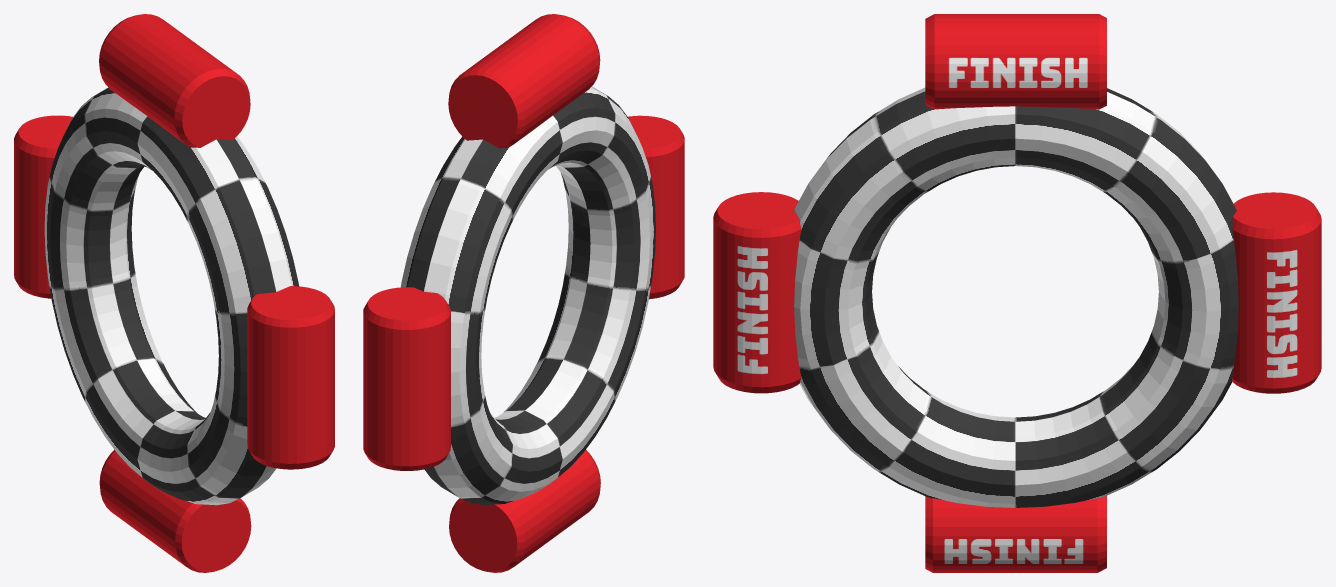
Rendered from finish 2.fbx.
The picture shows the model from 3 angles, left to right: view 1: azimuth 30°, elevation 25°; view 2: azimuth 150°, elevation 25°; view 3: azimuth 270°, elevation 25°; orthographic projection. The views are drawn at different scales.
Visible parts, largest first — view 1: Torus, Cylinder.004, Cylinder.002, Cylinder.001, Cylinder.003; view 2: Torus, Cylinder.003, Cylinder.002, Cylinder.001, Cylinder.004; view 3: Torus, Cylinder.002, Cylinder.003, Cylinder.004, Cylinder.001.
Boxes of the visible parts, x1,y1,x2,y2 form: Torus: (44, 87, 298, 505); Cylinder.004: (247, 286, 334, 469); Cylinder.002: (99, 14, 250, 147); Cylinder.001: (99, 449, 251, 572); Cylinder.003: (14, 115, 72, 298); Torus: (400, 86, 655, 505); Cylinder.003: (363, 287, 450, 470); Cylinder.002: (448, 14, 600, 148); Cylinder.001: (449, 450, 600, 572); Cylinder.004: (628, 115, 684, 299); Torus: (794, 87, 1238, 507); Cylinder.002: (925, 14, 1106, 109); Cylinder.003: (1232, 192, 1321, 393); Cylinder.004: (713, 192, 801, 393); Cylinder.001: (925, 496, 1106, 572).
Size of the model in its own units: 22.95 by 145 by 145.
